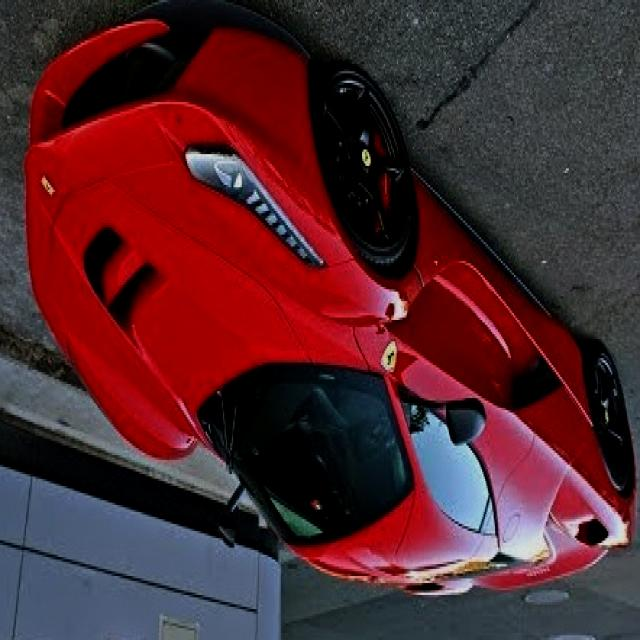red: (26, 21, 640, 592)
